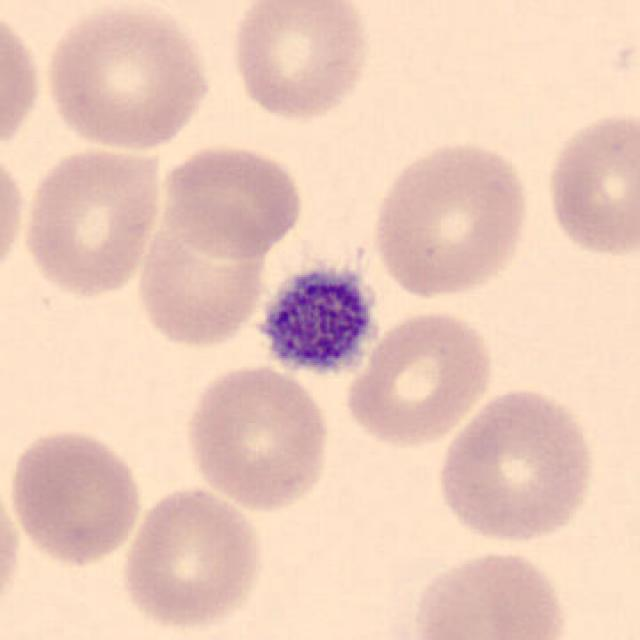Platelets: (251, 259, 384, 383)
RBC: (366, 136, 535, 303), (430, 382, 601, 546), (39, 2, 215, 153), (180, 360, 334, 514), (18, 141, 167, 300), (341, 305, 498, 450), (117, 483, 267, 633), (130, 196, 272, 354), (4, 423, 146, 568), (154, 139, 308, 259), (226, 0, 373, 125), (407, 545, 573, 640), (540, 104, 640, 261), (0, 4, 46, 162), (0, 457, 27, 624), (0, 144, 30, 291)
